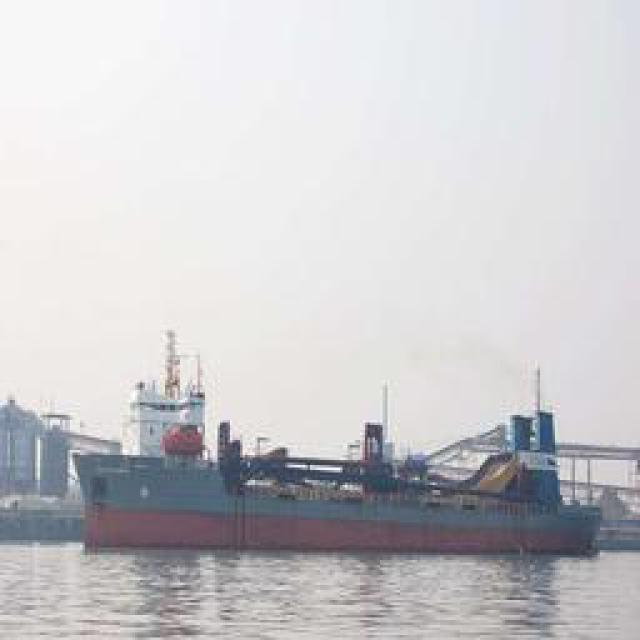Ship: (79, 339, 609, 562)
